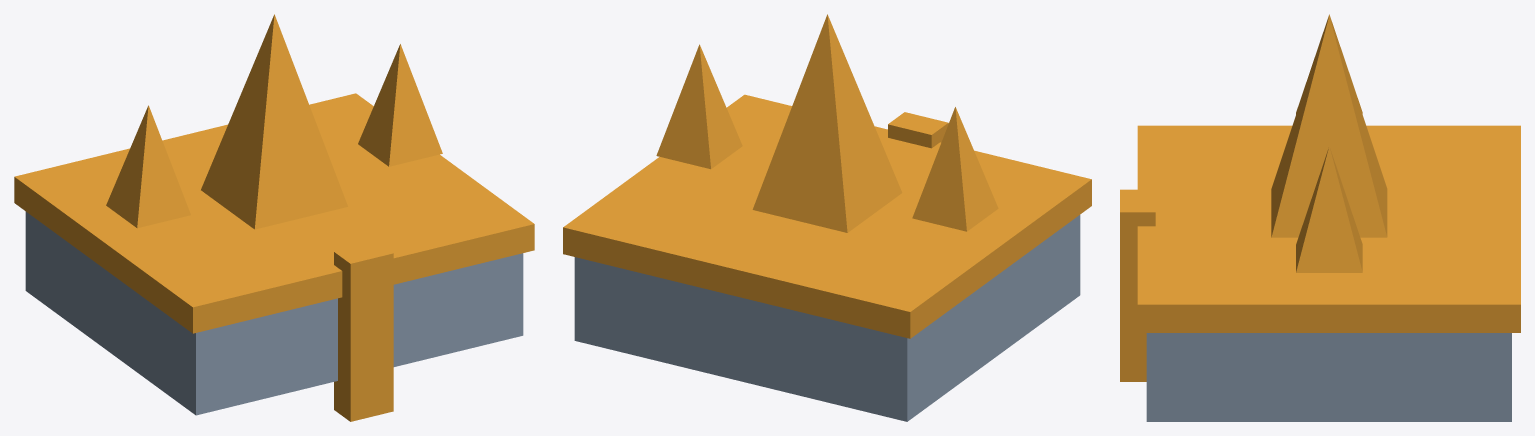
Rendered from head-3.obj.
3 views of the same model, side by side, from view 1: azimuth 30°, elevation 25°; view 2: azimuth 150°, elevation 25°; view 3: azimuth 270°, elevation 25° (orthographic). The views are drawn at different scales.
Size of the model in its own units: 0.95 by 0.88 by 0.9.
